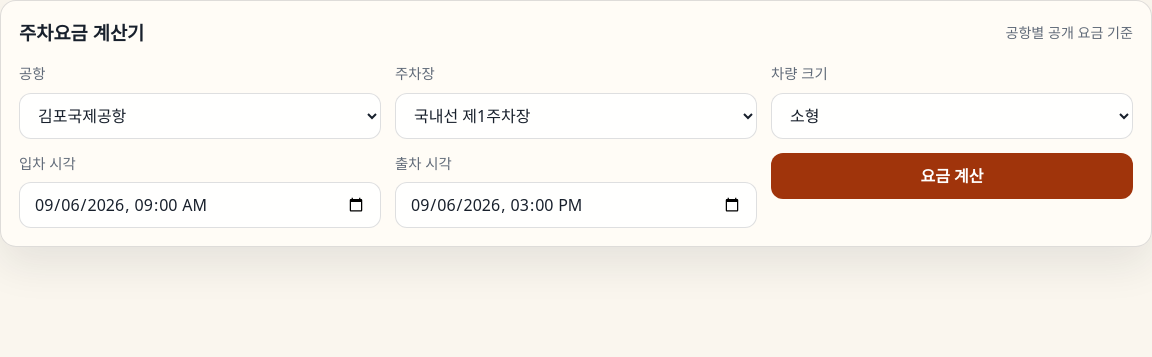
Test case: FeeCalculator › shows validation message when exit is earlier than entry
Step 1. Replace the text in the field labelled "입차 시각" with "2026-04-25T18:00" → (200, 205), box [19,182,381,228]
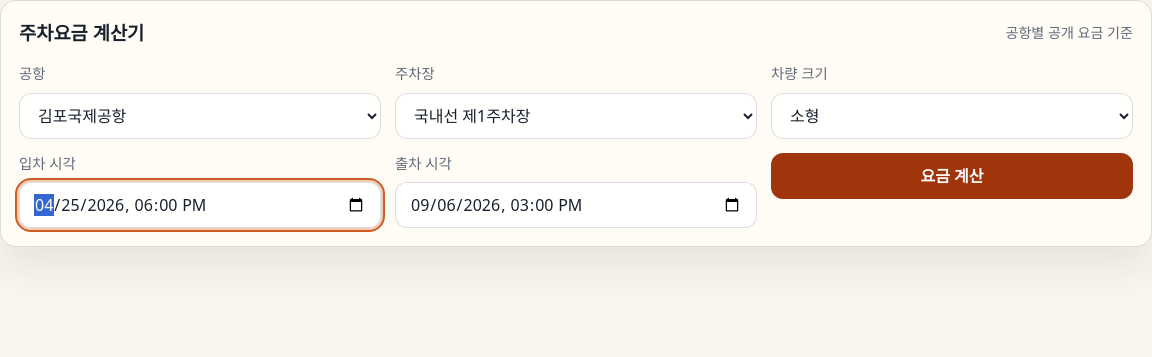
Step 2. Replace the text in the field labelled "출차 시각" with "2026-04-25T12:00" → (576, 205), box [395,182,757,228]
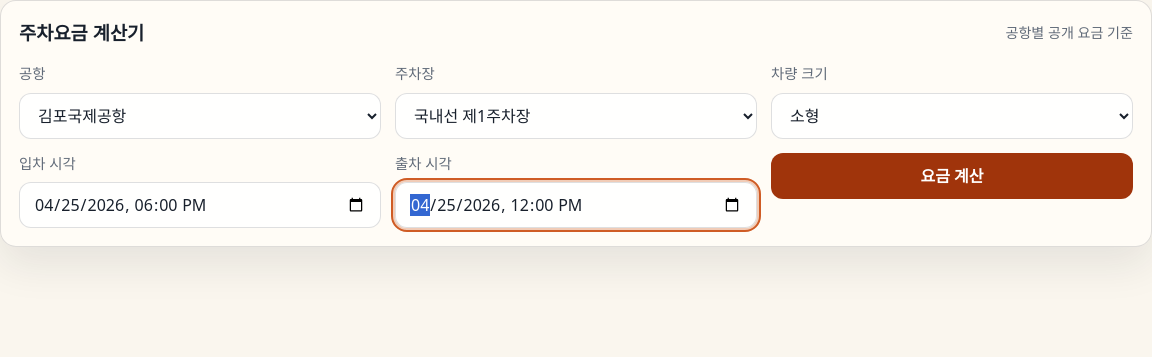
Step 3. Click the button "요금 계산" → click(952, 176), box [771,153,1133,199]
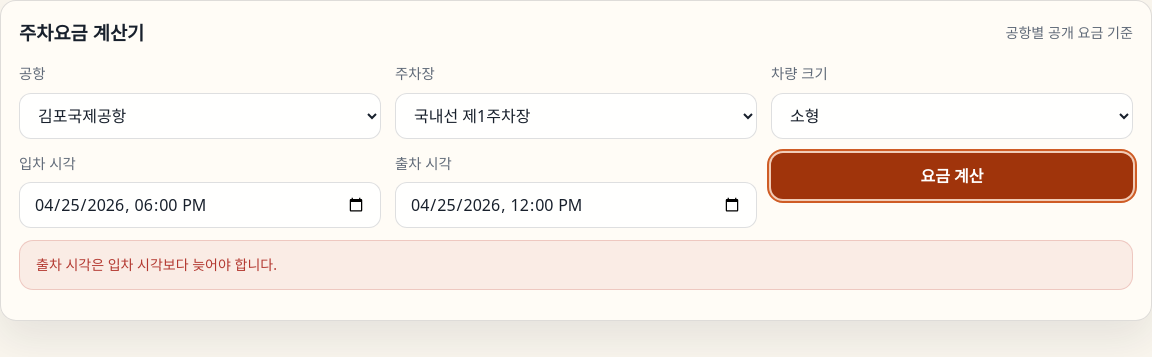
Expected: the text "출차 시각은 입차 시각보다 늦어야 합니다." is shown, [19,240,1133,290]
